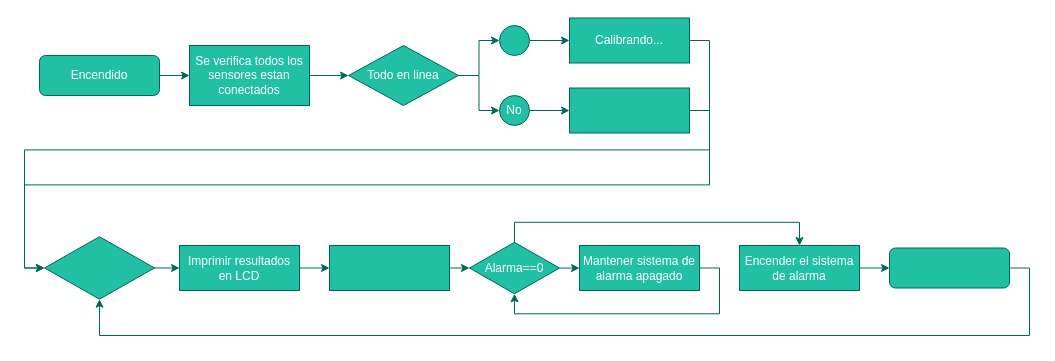
Image size: 1055x361. Some labels were removed from this diagram. The centre of each missing label's shape, as x and y in pixels:
"Endendio==true" goes at point (99, 267).
"Enviar resultados a la base de datos" goes at point (389, 267).
"Fin" goes at point (949, 267).
"Se Ignoran essos sensores" goes at point (629, 110).
"Si" goes at point (514, 40).
